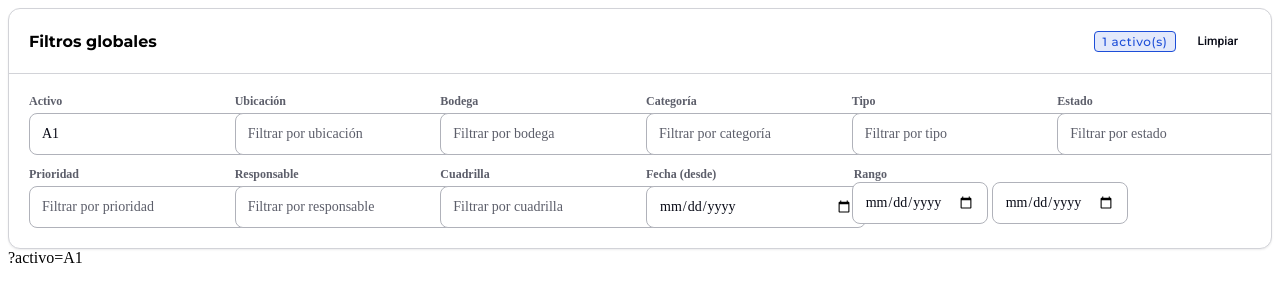
Test case: filtros globales → URL (deep links) y consumo por evaluar › el panel refleja filtros de la URL y notifica cambios serializables a URL
Expected: the field labelled "Activo" holds "A1", top-left (42, 106), bottom-right (236, 162)
Cambiar una dimensión produce una URL determinista.
Type "abierta" into the field labelled "Estado". click: (1167, 134)
box: top-left (1070, 106), bottom-right (1264, 162)
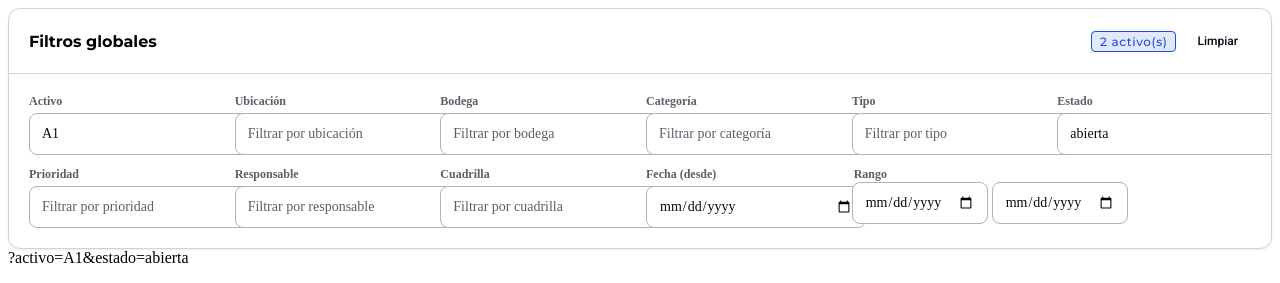
Expected: the text with test id "url" shows "activo=A1", top-left (8, 249), bottom-right (189, 266)
Expected: the text with test id "url" shows "estado=abierta", top-left (8, 249), bottom-right (189, 266)
